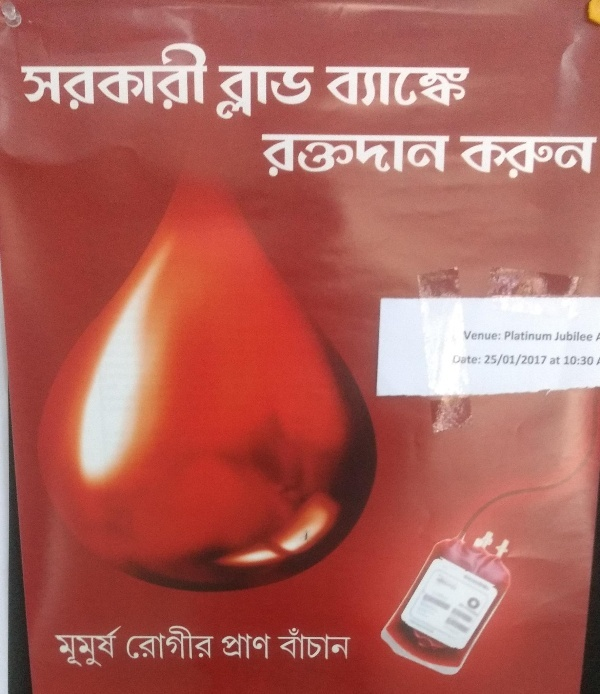text: (417, 558, 432, 644), (433, 558, 448, 644), (449, 558, 464, 644), (465, 558, 480, 644), (193, 39, 209, 112), (481, 558, 494, 644), (33, 39, 48, 112), (49, 39, 64, 112), (65, 39, 80, 112), (81, 39, 96, 112), (97, 39, 112, 112), (113, 39, 128, 112), (129, 39, 144, 112), (145, 39, 160, 112), (161, 39, 176, 112), (177, 39, 192, 112), (19, 39, 32, 112), (225, 63, 240, 121), (241, 63, 256, 121), (257, 63, 272, 121), (273, 63, 288, 121), (289, 63, 304, 121), (305, 63, 320, 121), (273, 133, 288, 181), (289, 133, 304, 181), (305, 133, 320, 181), (321, 133, 336, 181), (337, 133, 352, 181), (353, 133, 368, 181), (369, 133, 384, 181), (385, 133, 400, 181), (401, 133, 416, 181), (417, 133, 432, 181), (433, 133, 448, 181), (65, 623, 80, 670), (81, 623, 96, 670), (97, 623, 112, 670), (465, 134, 480, 180), (481, 134, 496, 180), (497, 134, 512, 180), (513, 134, 528, 180), (529, 134, 544, 180), (545, 134, 560, 180), (561, 134, 576, 180), (577, 134, 592, 180), (337, 64, 352, 109), (353, 64, 368, 109), (369, 64, 384, 109), (385, 64, 400, 109), (401, 64, 416, 109), (417, 64, 432, 109), (433, 64, 448, 109), (449, 64, 464, 109), (214, 63, 224, 121), (129, 625, 144, 663), (145, 625, 160, 663), (161, 625, 176, 663), (177, 625, 192, 663), (193, 625, 208, 663), (289, 626, 304, 662), (305, 626, 320, 662), (321, 626, 336, 662), (337, 626, 352, 662), (261, 133, 272, 181), (410, 558, 416, 644), (257, 630, 273, 661), (325, 64, 336, 109), (54, 623, 64, 670), (113, 623, 123, 670), (225, 630, 240, 661), (241, 630, 256, 661), (277, 626, 288, 662), (458, 134, 464, 180), (593, 134, 599, 180), (465, 64, 471, 109), (209, 625, 216, 663), (465, 327, 480, 343), (481, 327, 496, 343), (513, 328, 528, 344), (529, 328, 544, 344), (561, 330, 576, 344), (577, 330, 592, 344), (465, 353, 480, 367), (529, 354, 544, 367), (564, 354, 576, 367), (453, 353, 464, 367), (581, 353, 592, 367), (449, 133, 452, 181), (485, 353, 496, 366), (513, 353, 523, 367), (550, 354, 560, 367), (504, 328, 512, 344), (545, 328, 553, 344), (504, 353, 512, 367), (497, 327, 503, 343), (221, 630, 224, 661), (497, 353, 504, 366), (523, 354, 528, 367), (556, 330, 560, 344), (595, 330, 600, 341), (545, 354, 548, 367), (577, 354, 580, 367), (127, 625, 128, 663), (593, 353, 595, 367), (561, 354, 563, 367), (598, 353, 600, 366), (463, 327, 464, 343), (593, 330, 594, 344), (481, 353, 482, 367)
